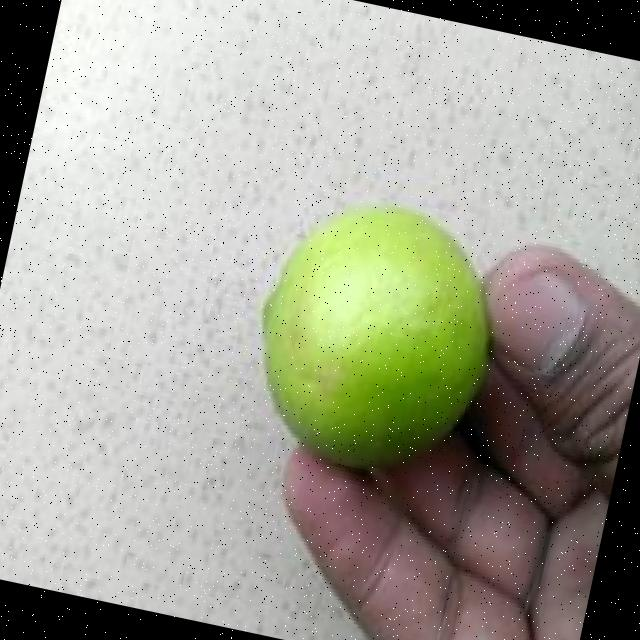lemon: (263, 207, 486, 465)
